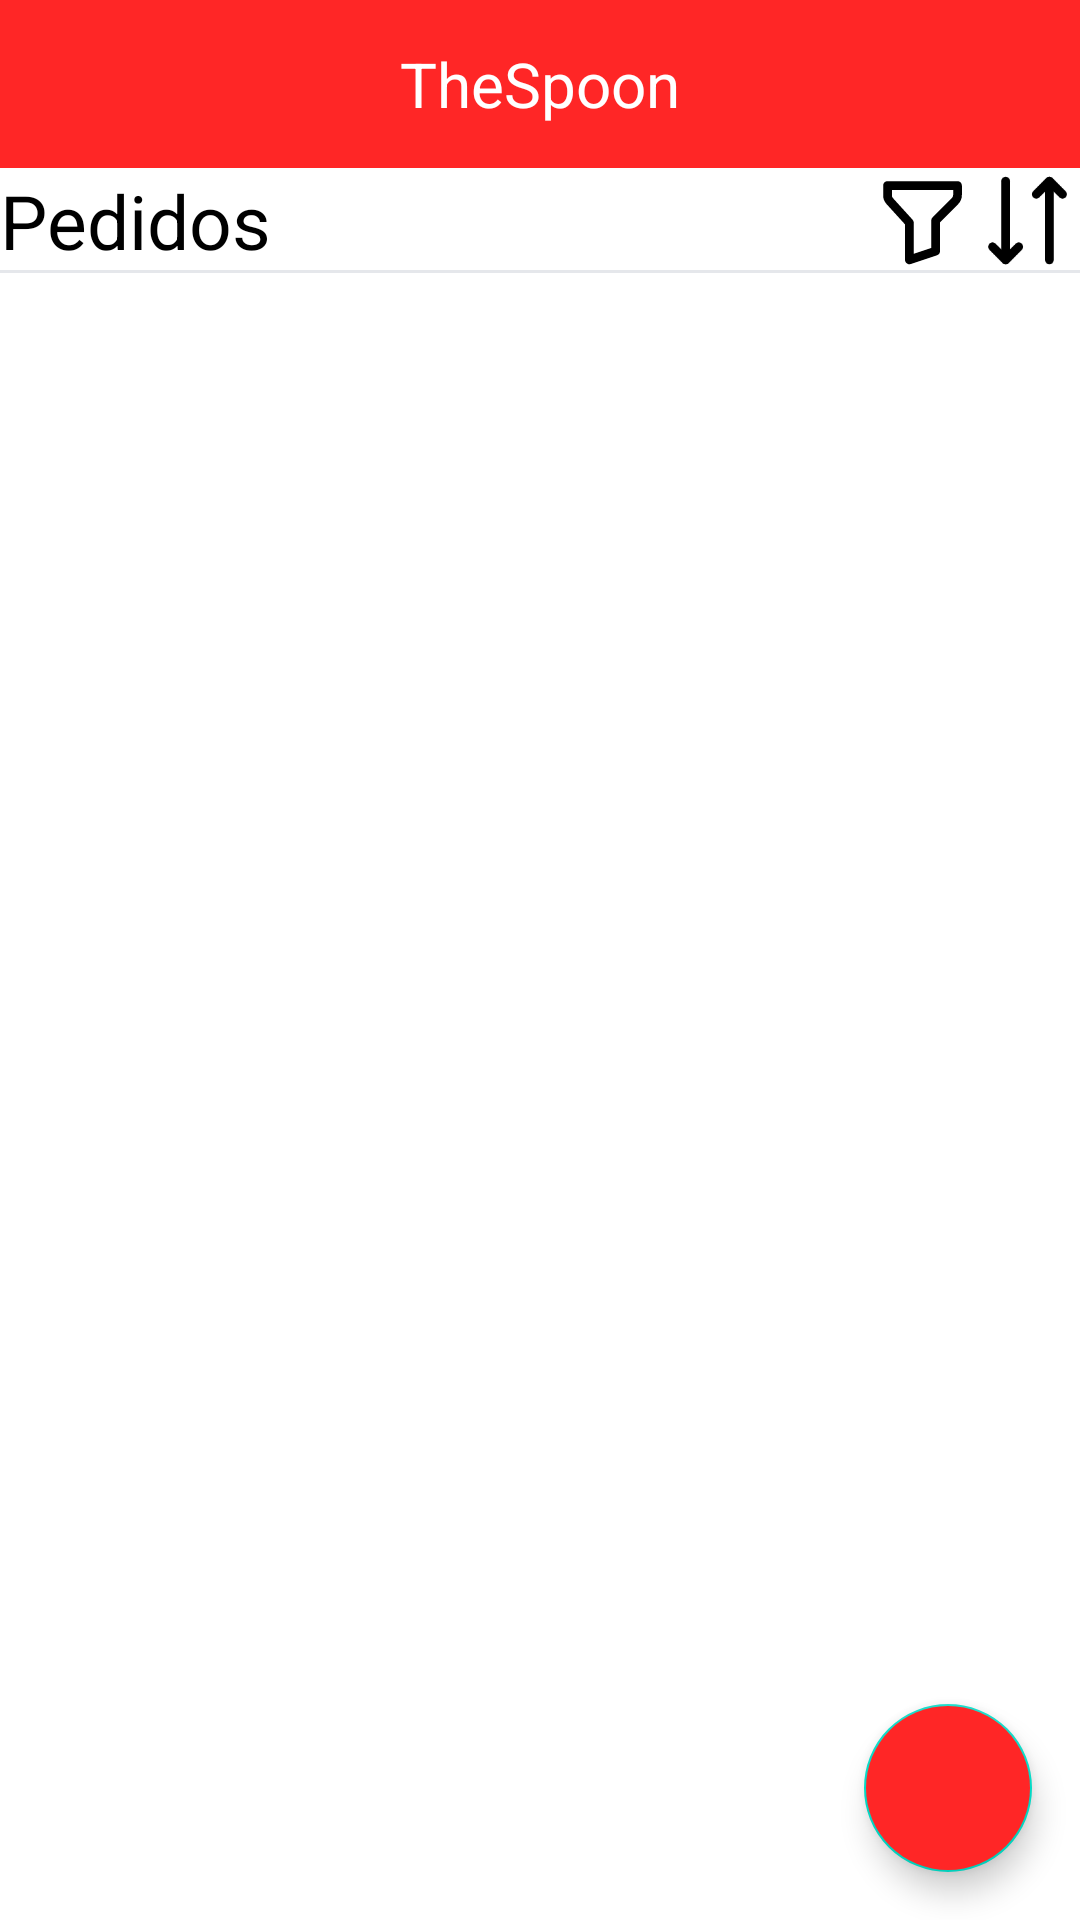

Point at icon controls on the screen. Image size 1080 x 1920, points as (x,y).
arrows down up: (1027,220)
filter: (922,223)
